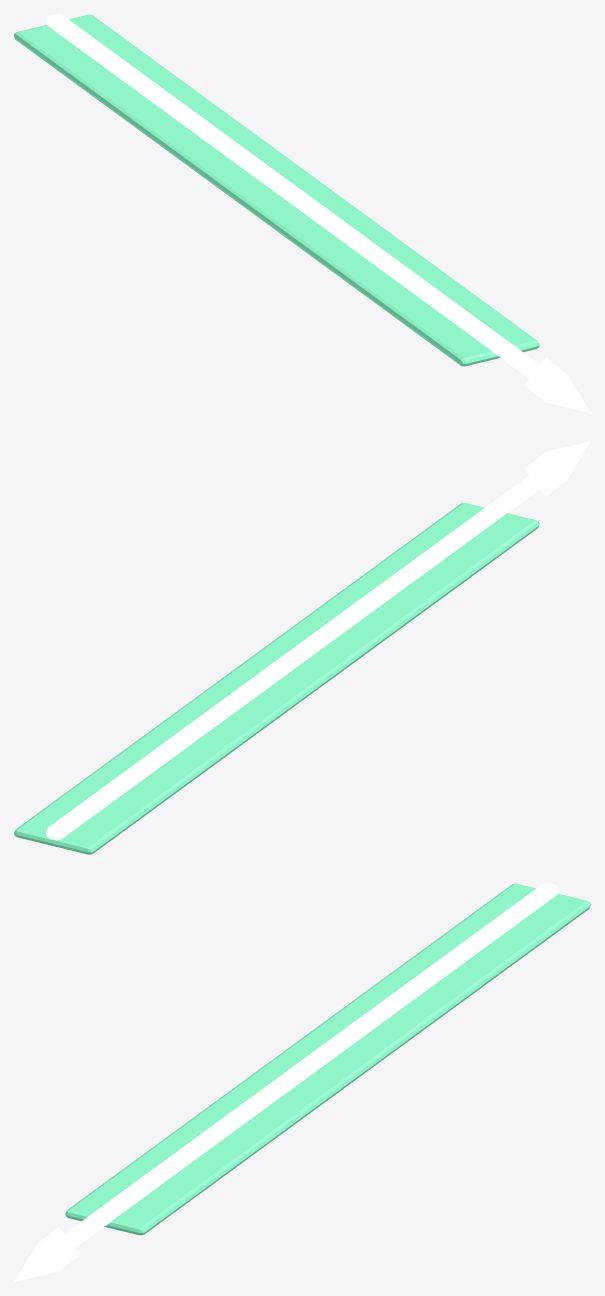
The model's file is vfx_qingfeng_blade_a.glb.
3 renders of one model, top to bottom at view 1: azimuth 30°, elevation 25°; view 2: azimuth 150°, elevation 25°; view 3: azimuth 330°, elevation 25°, orthographic.
Visible parts, largest first — view 1: qingfeng_blade_trail, qingfeng_blade_core, qingfeng_blade_tip; view 2: qingfeng_blade_trail, qingfeng_blade_core, qingfeng_blade_tip; view 3: qingfeng_blade_trail, qingfeng_blade_core, qingfeng_blade_tip.
Boxes of the visible parts, bbox=[...] form: qingfeng_blade_trail: bbox=[14, 14, 539, 366]; qingfeng_blade_core: bbox=[46, 14, 539, 378]; qingfeng_blade_tip: bbox=[524, 357, 590, 412]; qingfeng_blade_trail: bbox=[14, 503, 539, 854]; qingfeng_blade_core: bbox=[46, 467, 554, 840]; qingfeng_blade_tip: bbox=[524, 441, 590, 496]; qingfeng_blade_trail: bbox=[65, 883, 590, 1235]; qingfeng_blade_core: bbox=[65, 883, 558, 1247]; qingfeng_blade_tip: bbox=[14, 1226, 80, 1281].
Size of the model in its own units: 0.55 by 0.3 by 6.47.
